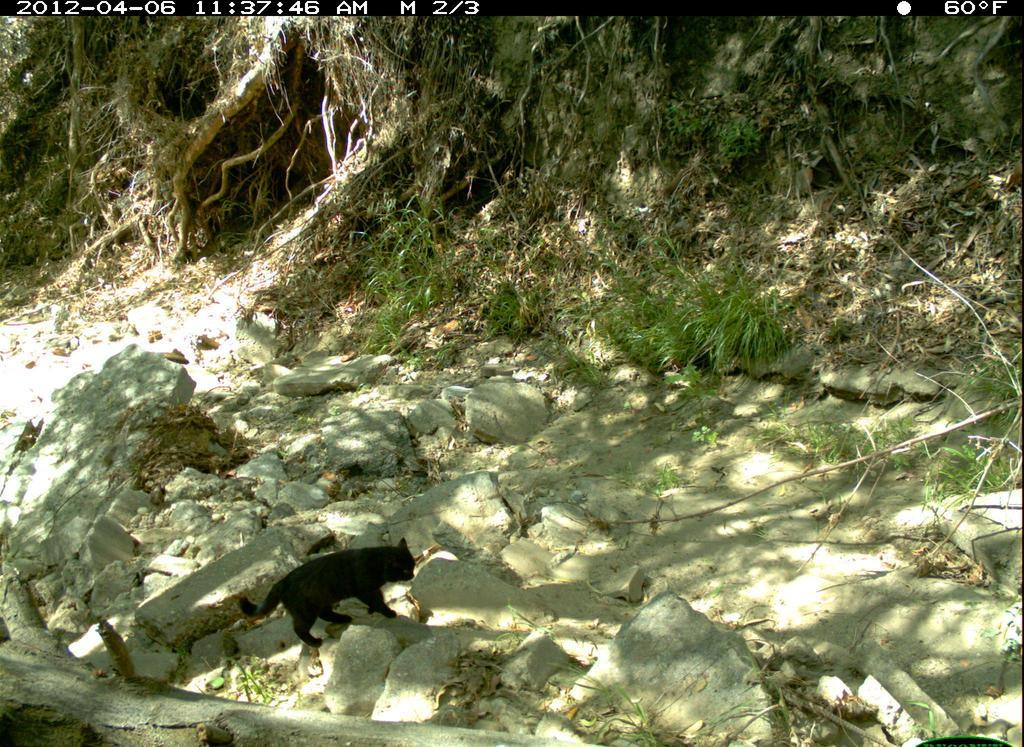cat: (214, 543, 449, 653)
